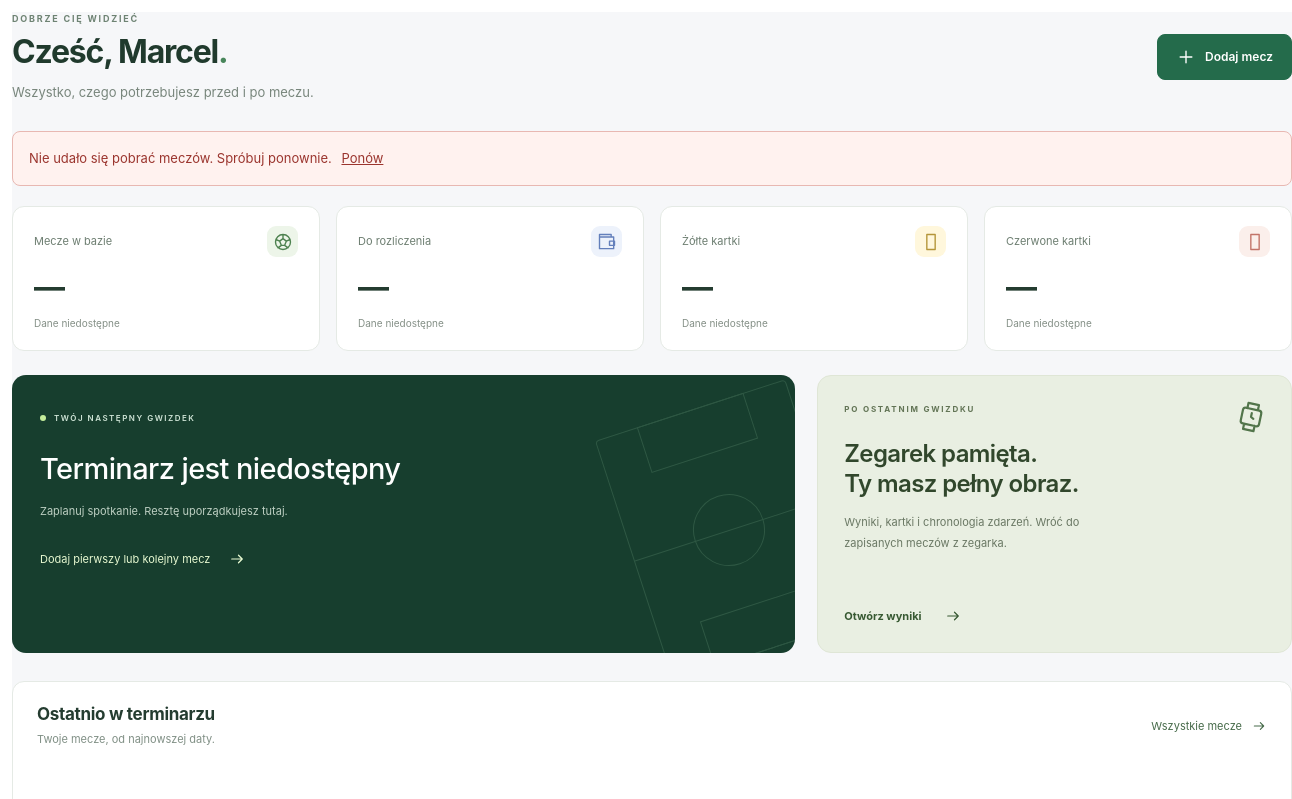
Test: offers retry after a failed request and shows a useful empty state
Check: the message shows "Nie udało się pobrać meczów", box [29,150,332,166]
Click the button "Ponów". click: (362, 158)
box: [336,148,389,169]
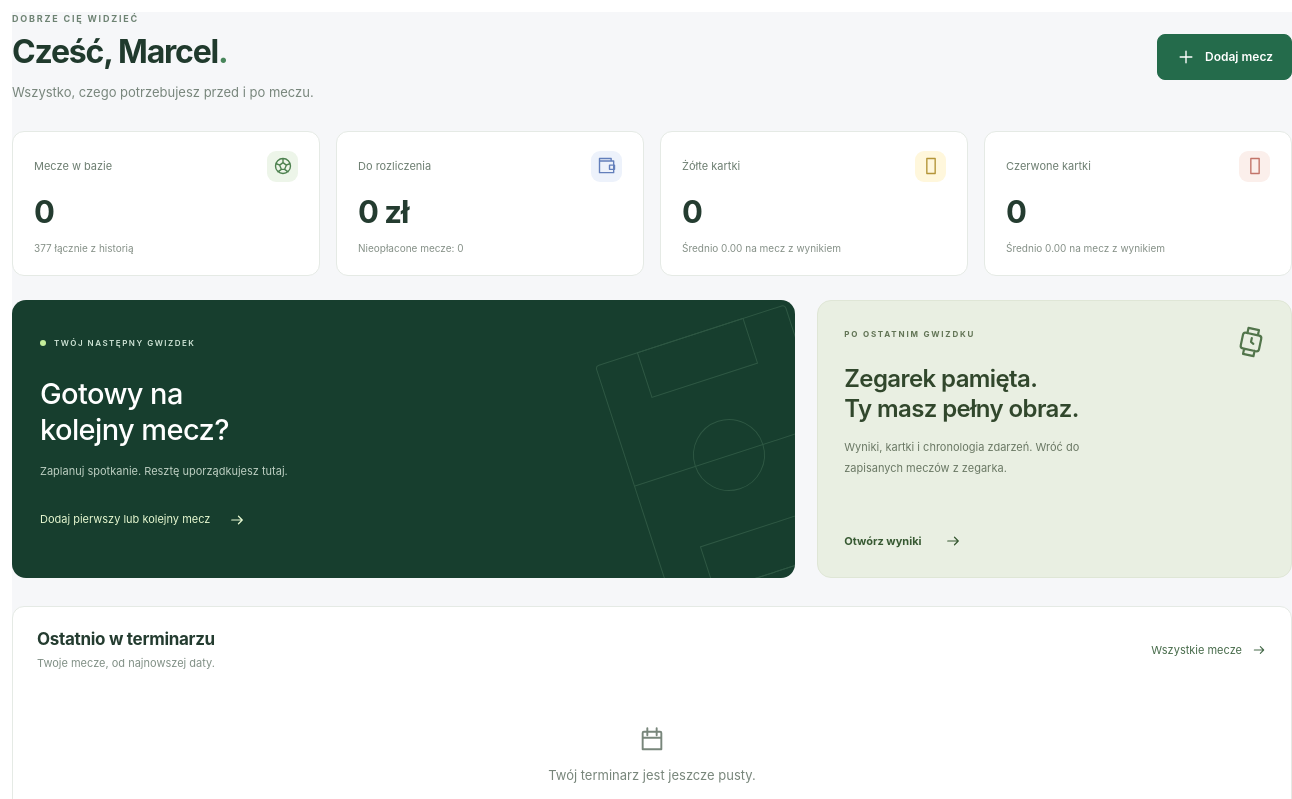
Check: the text "Twój terminarz jest jeszcze pusty." is shown, box [548,767,756,783]
